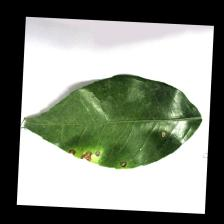canker: (62, 140, 131, 171)
